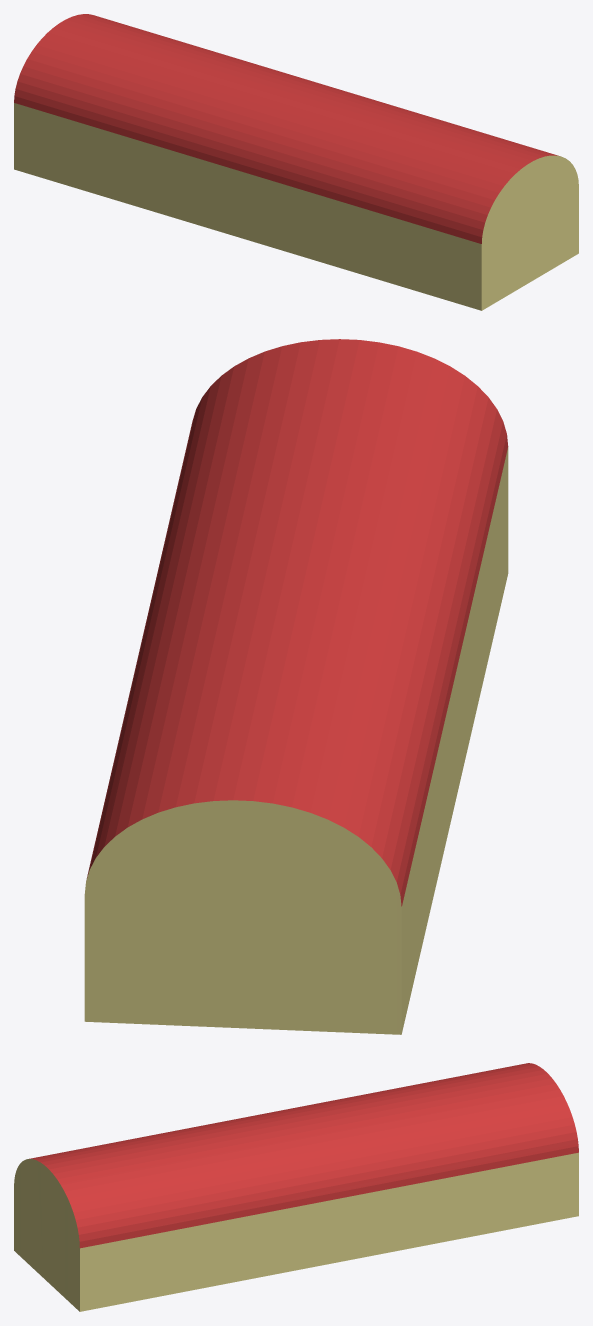
3 renders of one model, top to bottom at view 1: azimuth 30°, elevation 25°; view 2: azimuth 150°, elevation 25°; view 3: azimuth 270°, elevation 25°, orthographic. The views are drawn at different scales.
Size of the model in its own units: 20.49 by 31.15 by 6.92.
